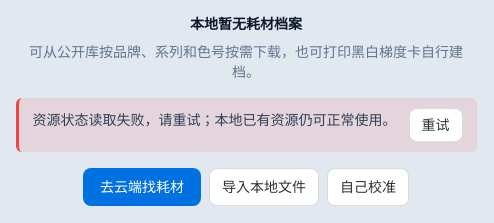
Scenario: choosing the first library resource › can retry a failed status check and still browse the cloud
Expected: the text "资源状态读取失败，请重试；本地已有资源仍可正常使用。" is shown, [32,108,396,132]
Expected: the button "去云端找耗材" is enabled, [83,168,201,206]
Click the button "重试" at (436, 125), box [408,108,462,142]
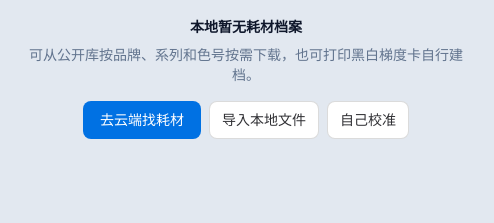
Expected: the text "资源状态读取失败" is gone
